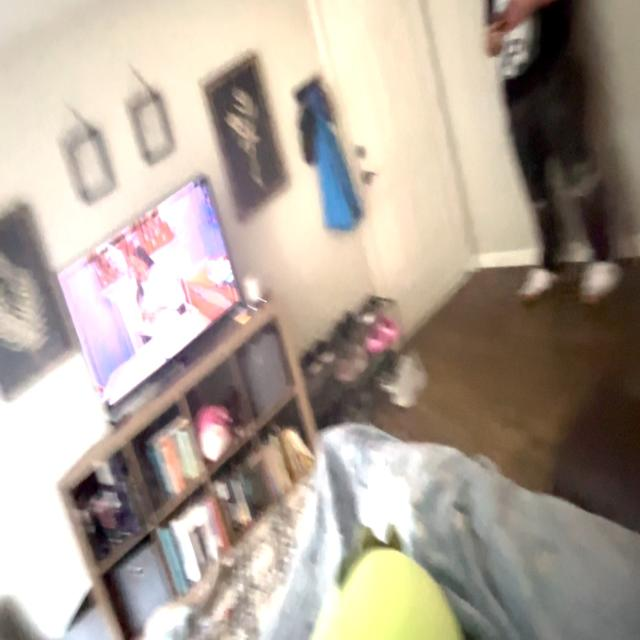drone: (236, 284, 288, 326)
